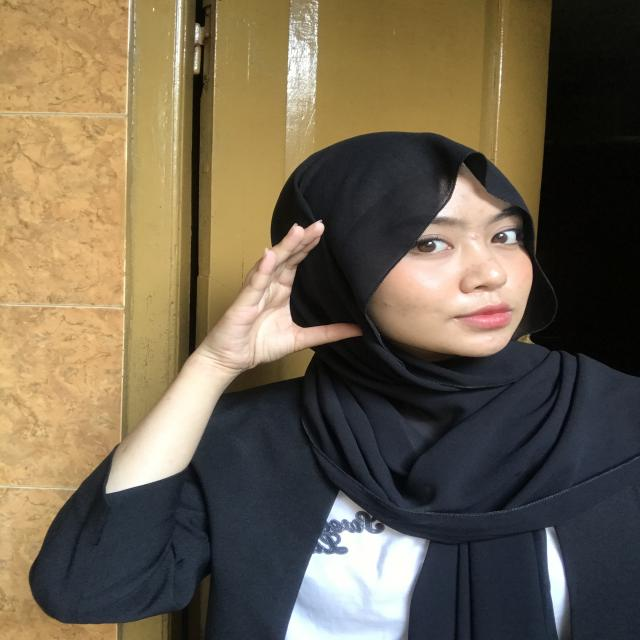mendengar: (182, 213, 378, 380)
